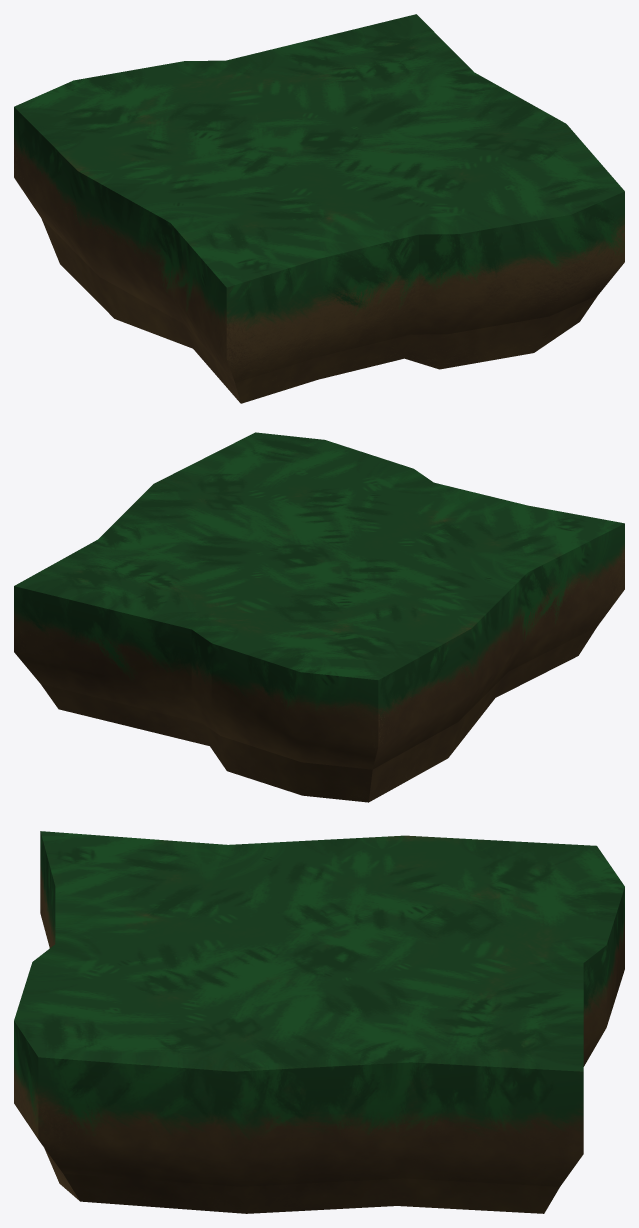
File: Fantasy_MID2_Forest_Platform_Unchecked_ME.fbx
3 renders of one model, top to bottom at view 1: azimuth 30°, elevation 25°; view 2: azimuth 150°, elevation 25°; view 3: azimuth 270°, elevation 25°, orthographic. The views are drawn at different scales.
Visible parts, largest first — view 1: ForestMid2; view 2: ForestMid2; view 3: ForestMid2.
Part boxes in pixels (bbox=[...]): ForestMid2: bbox=[14, 14, 624, 403]; ForestMid2: bbox=[14, 432, 624, 802]; ForestMid2: bbox=[14, 831, 624, 1213].
Size of the model in its own units: 134 by 144 by 45.71.
1 material, 1 textured.
